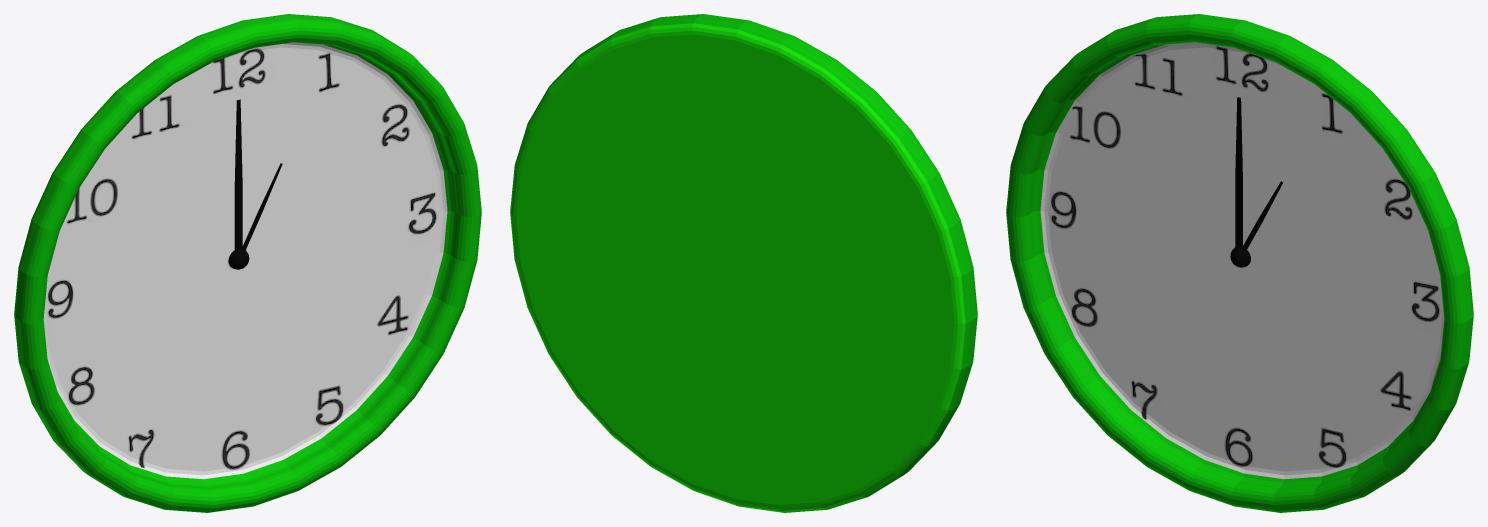
The model's file is zegar3.fbx.
The picture shows the model from 3 angles, left to right: view 1: azimuth 30°, elevation 25°; view 2: azimuth 150°, elevation 25°; view 3: azimuth 330°, elevation 25°; orthographic projection.
Visible parts, largest first — view 1: Cylinder; view 2: Cylinder; view 3: Cylinder.
Part boxes in pixels (box(x1,y1,x2,y2)): Cylinder: box(14, 14, 481, 512); Cylinder: box(510, 14, 977, 512); Cylinder: box(1006, 14, 1473, 512).
Size of the model in its own units: 200 by 200 by 12.94.
4 materials, 1 textured.
